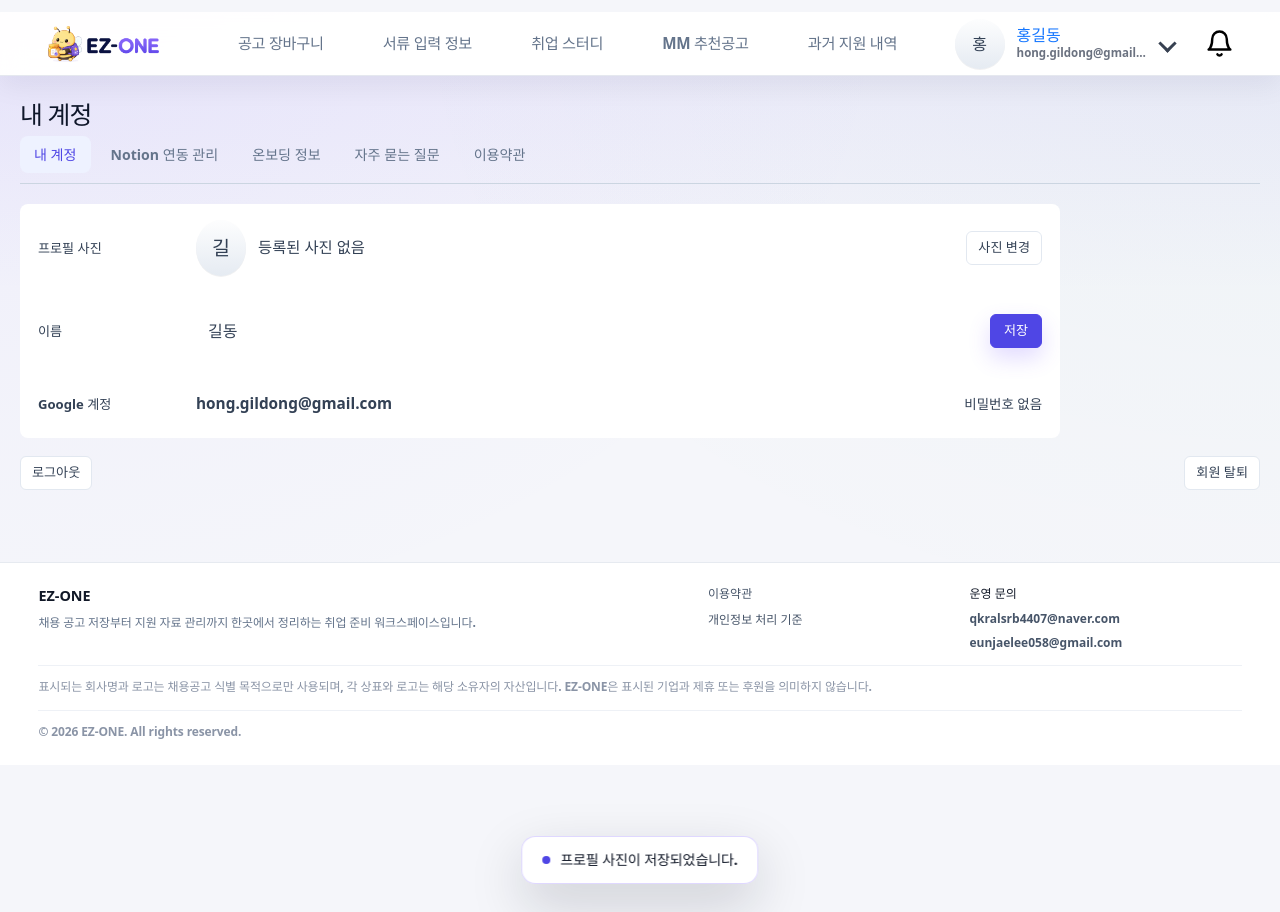
Test: MyPage › MY-ACCOUNT: shows an inline error when nickname save fails
Replace the text in the field with test id "nickname-input" with "홍길동" at [584, 331], box [196,308,972,354]
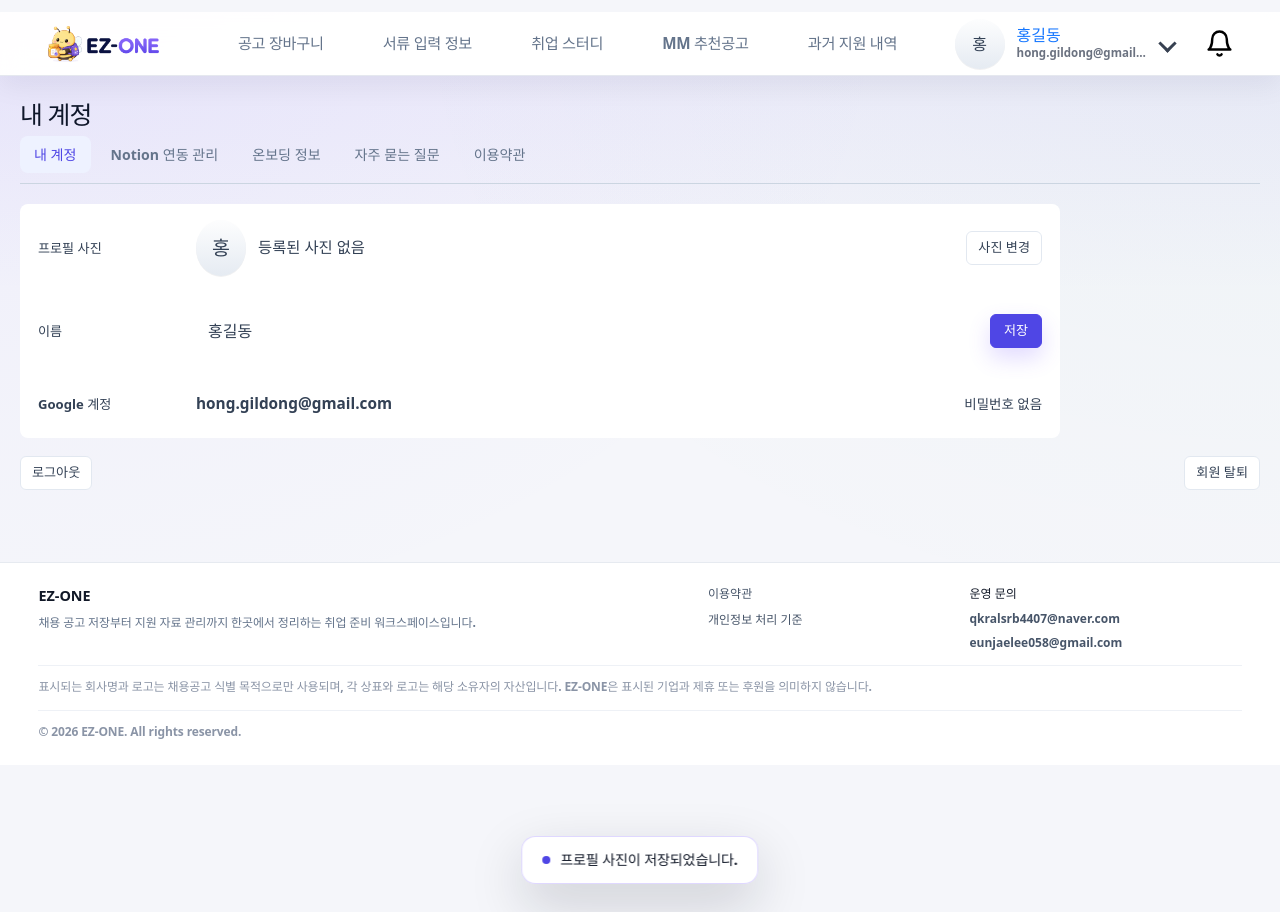
Click the button with test id "save-account-profile".
click(1016, 331)  # box [990,314,1042,348]
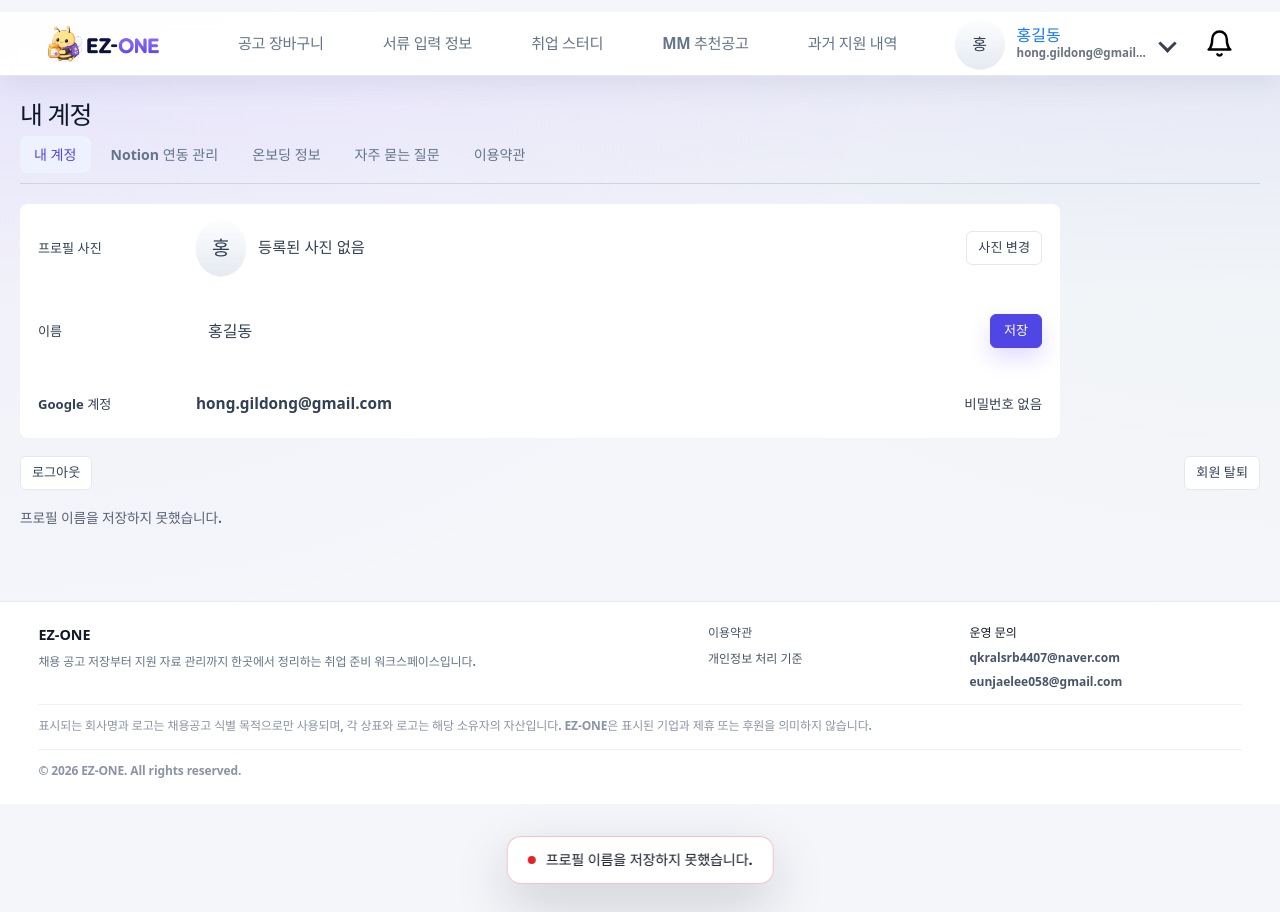
Expected: the text "프로필 이름을 저장하지 못했습니다." is shown, [20,508,222,527]
